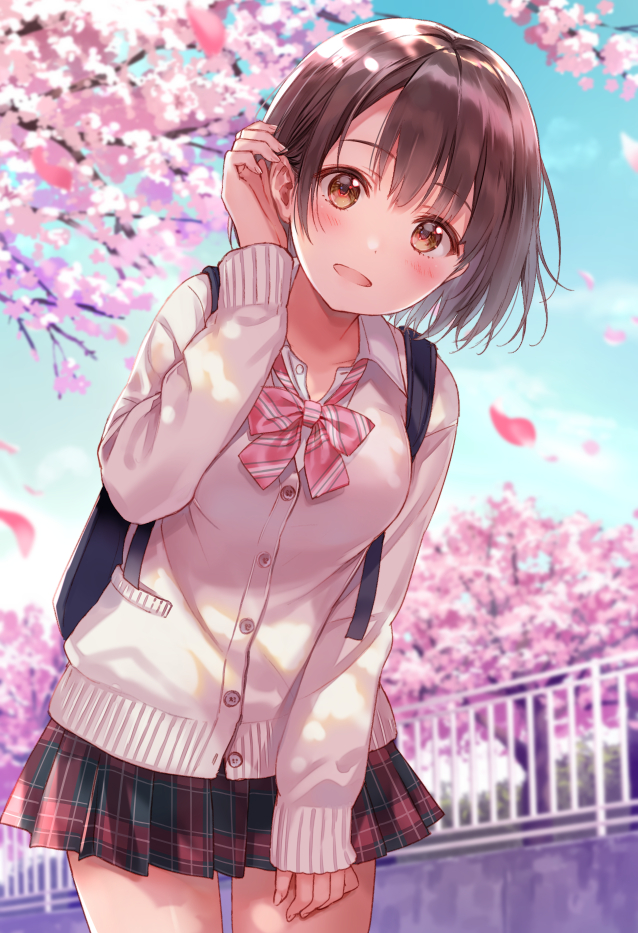纸片人正脸: (256, 14, 551, 327)
